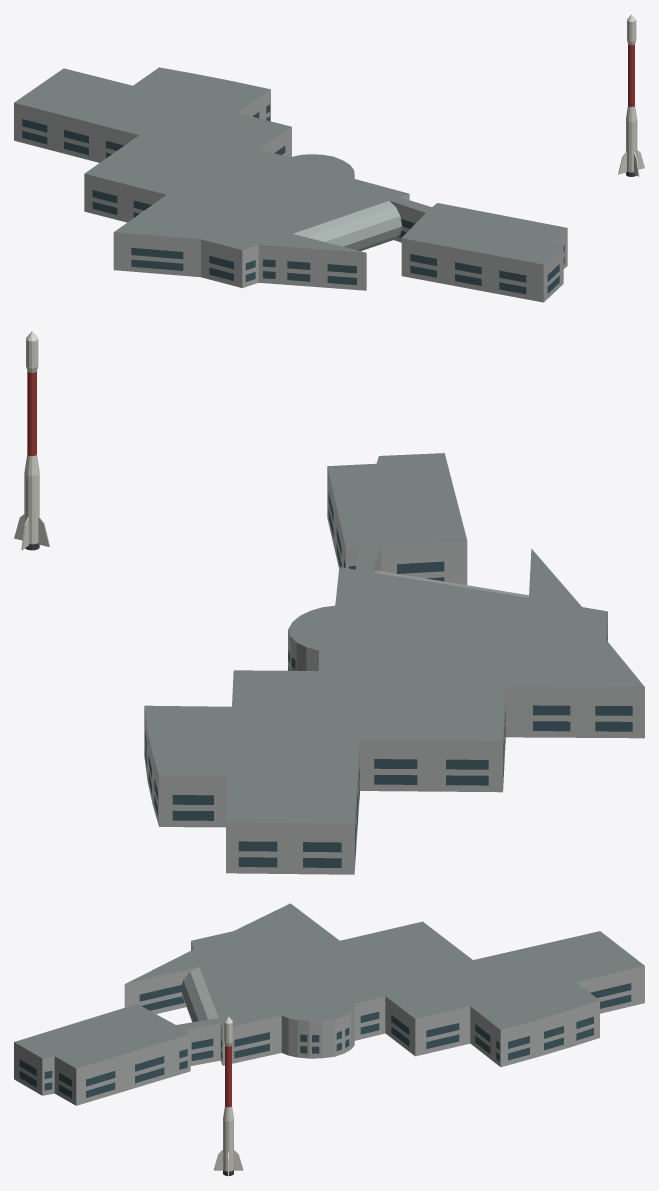
File: cosmodome-laval-far.glb
The picture shows the model from 3 angles, top to bottom: view 1: azimuth 30°, elevation 25°; view 2: azimuth 150°, elevation 25°; view 3: azimuth 270°, elevation 25°; orthographic projection. The views are drawn at different scales.
Visible parts, largest first — view 1: cosmodome-laval-0-roof, cosmodome-laval-0-cladding, cosmodome-laval-0-glass, cosmodome-laval-0-entry, cosmodome-laval-0-white, cosmodome-laval-0-red; view 2: cosmodome-laval-0-roof, cosmodome-laval-0-cladding, cosmodome-laval-0-glass, cosmodome-laval-0-white, cosmodome-laval-0-red; view 3: cosmodome-laval-0-roof, cosmodome-laval-0-cladding, cosmodome-laval-0-glass, cosmodome-laval-0-entry, cosmodome-laval-0-white, cosmodome-laval-0-red.
Boxes of the visible parts, <box> form: cosmodome-laval-0-roof: <box>14,67,566,264</box>; cosmodome-laval-0-cladding: <box>14,89,567,302</box>; cosmodome-laval-0-glass: <box>22,104,564,294</box>; cosmodome-laval-0-entry: <box>293,201,402,251</box>; cosmodome-laval-0-white: <box>618,14,644,176</box>; cosmodome-laval-0-red: <box>628,44,634,106</box>; cosmodome-laval-0-roof: <box>144,453,644,823</box>; cosmodome-laval-0-cladding: <box>144,467,644,874</box>; cosmodome-laval-0-glass: <box>145,492,632,867</box>; cosmodome-laval-0-white: <box>14,331,49,549</box>; cosmodome-laval-0-red: <box>27,371,36,456</box>; cosmodome-laval-0-roof: <box>14,903,644,1068</box>; cosmodome-laval-0-cladding: <box>14,941,644,1105</box>; cosmodome-laval-0-glass: <box>19,983,631,1098</box>; cosmodome-laval-0-entry: <box>180,967,218,1022</box>; cosmodome-laval-0-white: <box>213,1016,243,1176</box>; cosmodome-laval-0-red: <box>225,1046,231,1107</box>.
Bounding box in the file's own units: 151 × 46.4 × 169.
